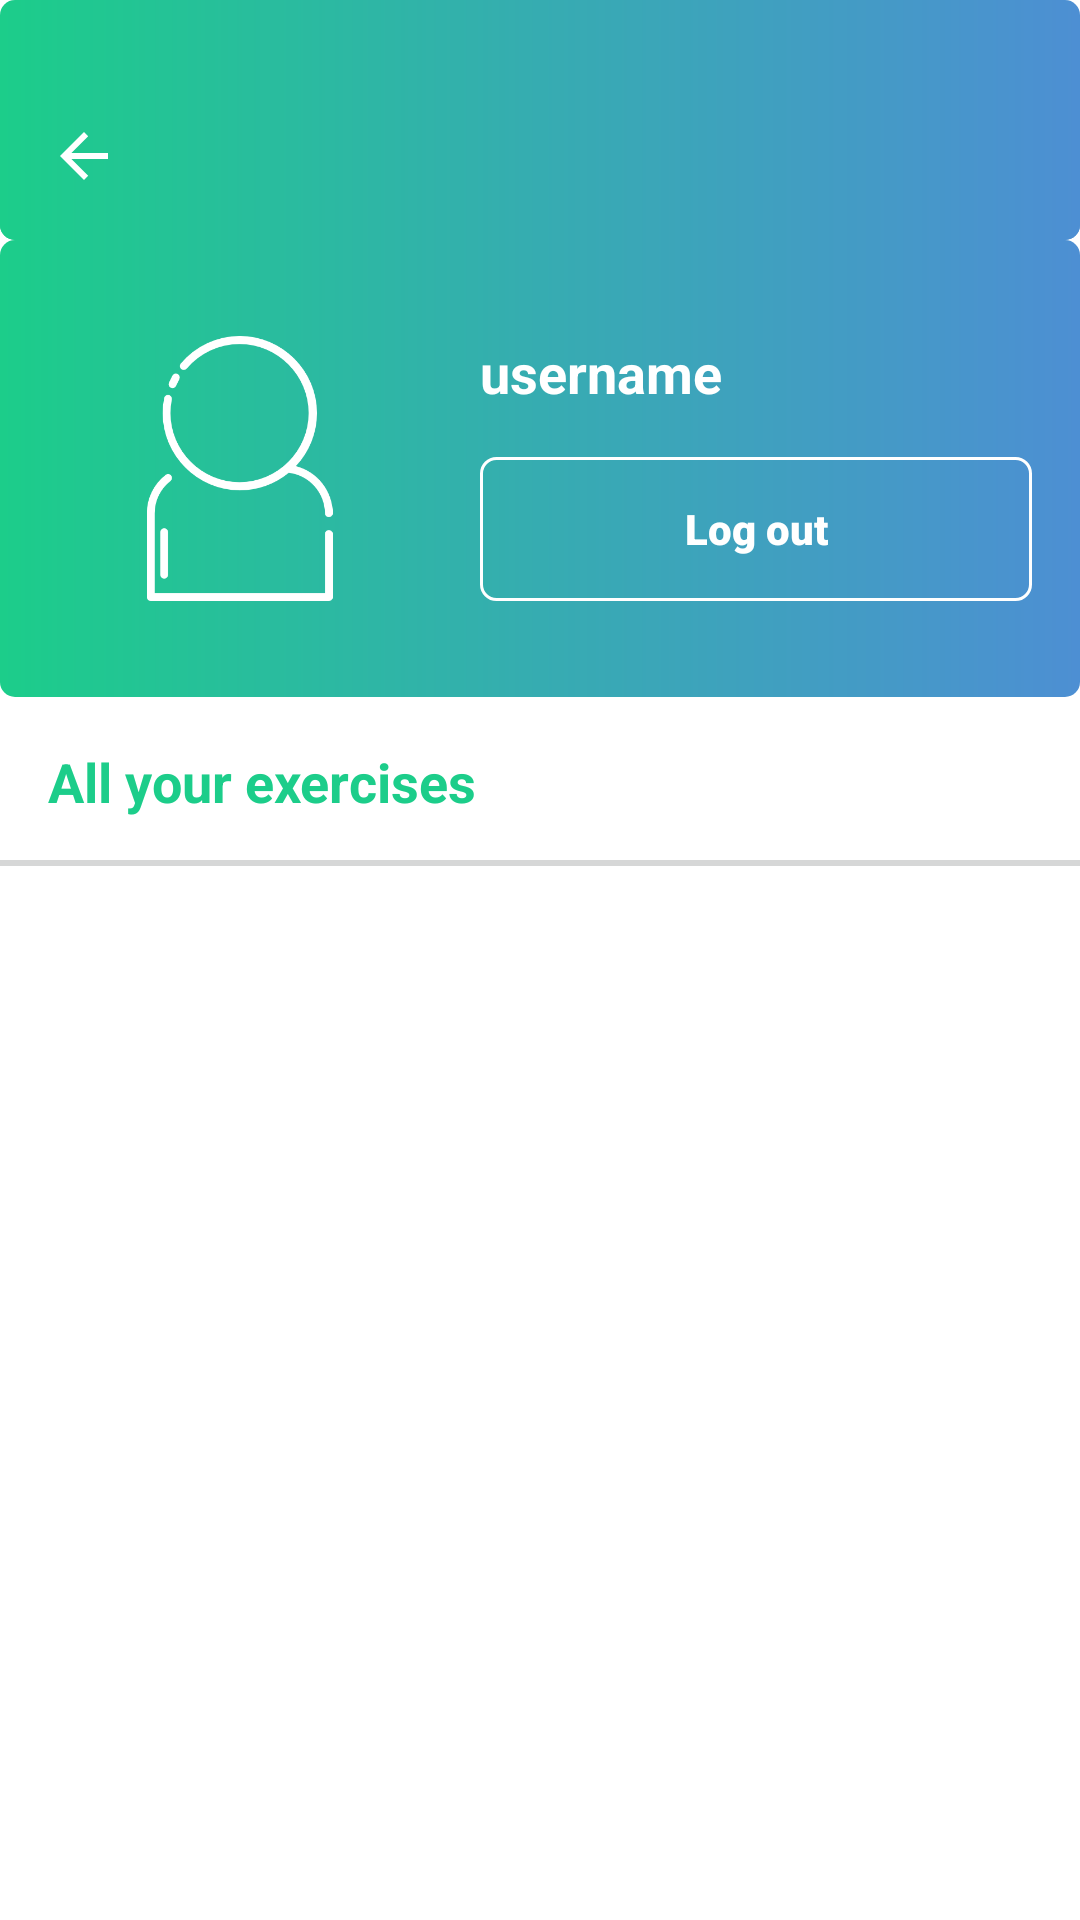

Locate icon controls on the screen. Image size 1080w x 1920h, boxes as (x1, y1, x2, y2).
user icon: (147, 336, 432, 601)
